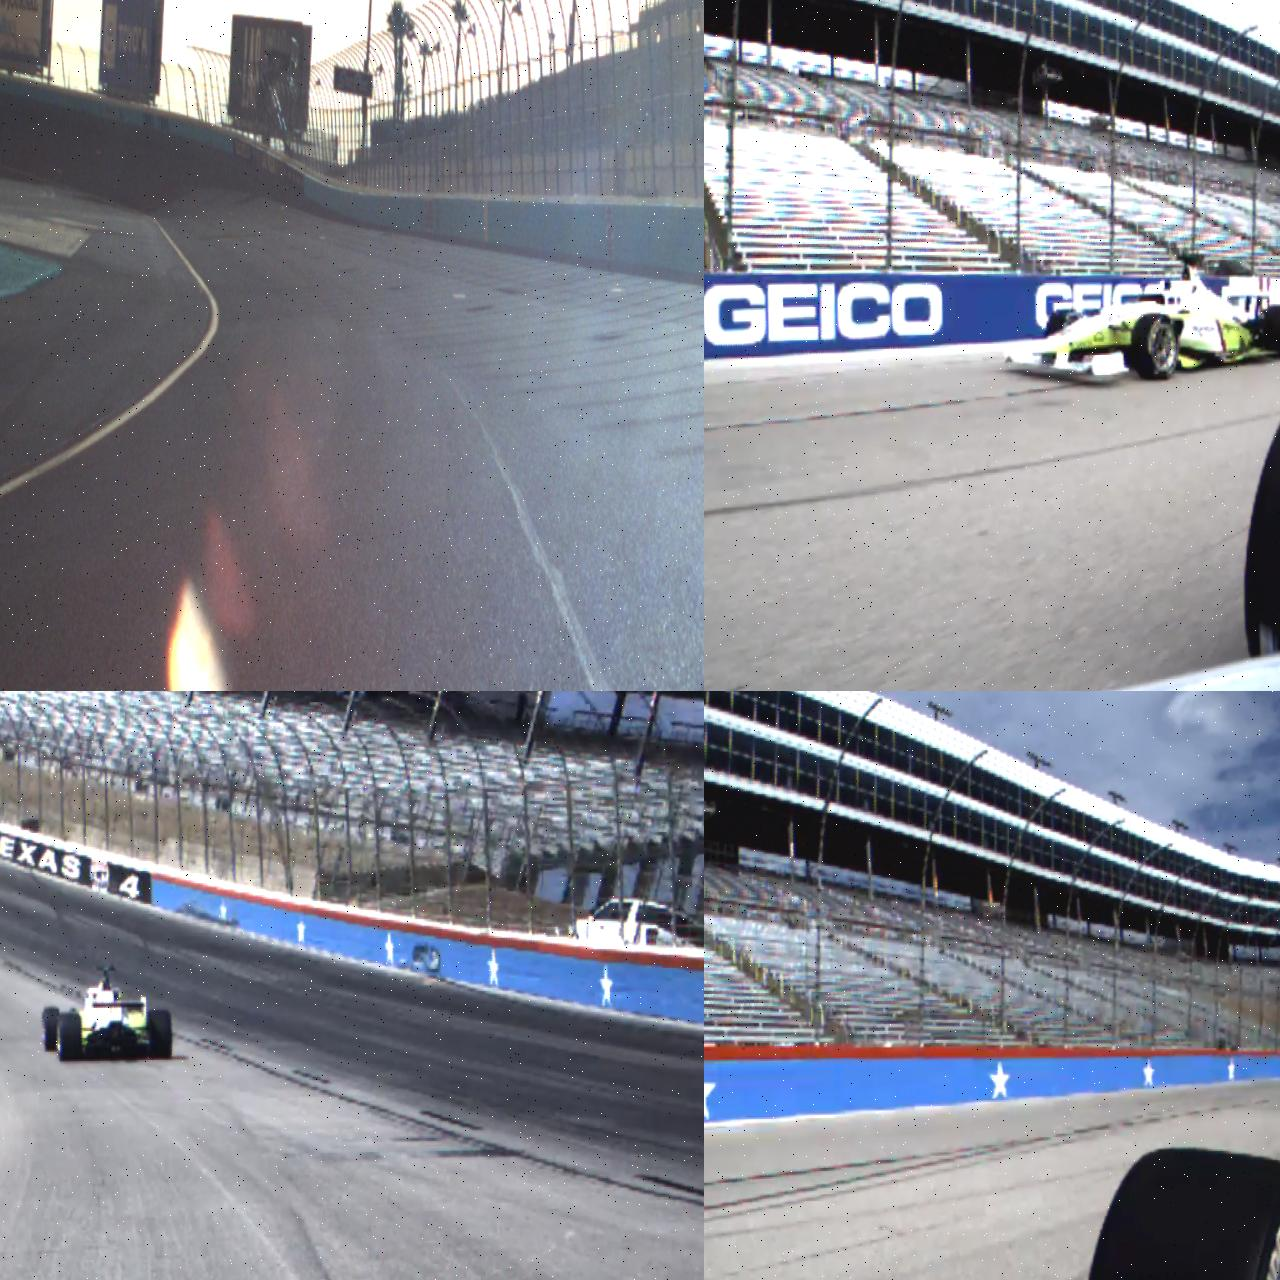AV: (1003, 251, 1280, 384), (41, 964, 173, 1063)
Wheel: (1078, 1144, 1280, 1280), (1132, 313, 1179, 380), (1046, 309, 1083, 368), (148, 1009, 173, 1060), (56, 1013, 82, 1063), (1265, 304, 1280, 361), (42, 1006, 61, 1051)
